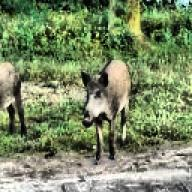boar: (80, 57, 130, 163), (0, 60, 26, 154)
